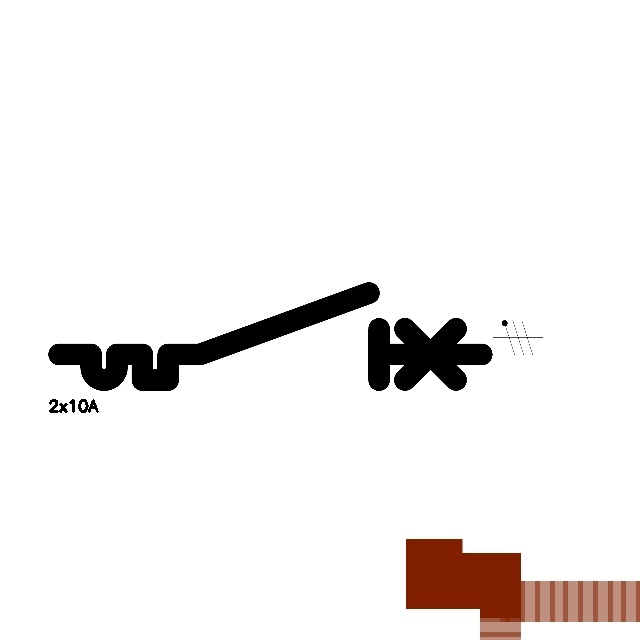interruptor_termomagnetico: (48, 282, 492, 391)
